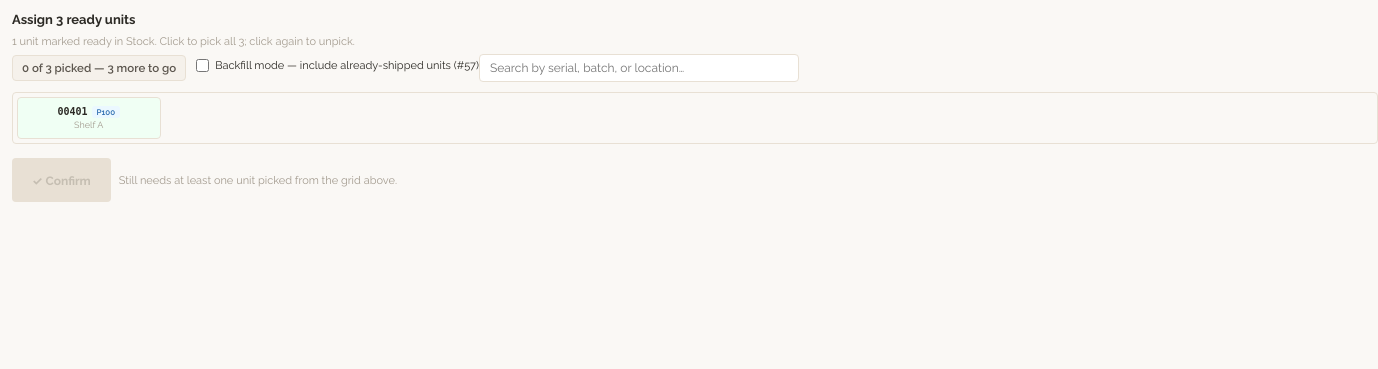
Scenario: StepAssign — picking the machines an order is for › flags a picked unit that is already shipped as a backfill
The width and height of the screenshot is (1378, 369).
Click the checkbox labelled "Backfill mode — include already-shipped units (#57)". click: coordinates (203, 66)
box: 196,59 -> 209,72
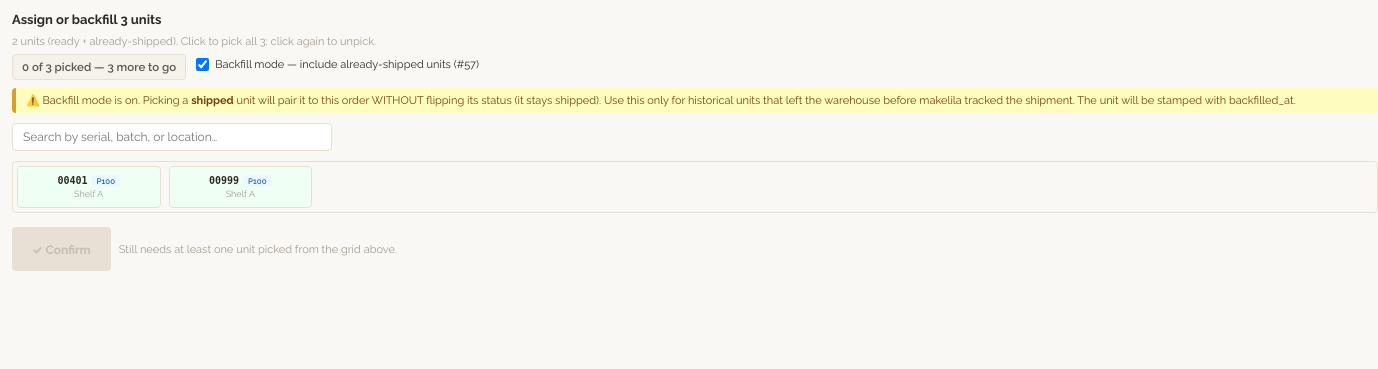
Click the text "00999". click: coordinates (240, 181)
box: 209,175 -> 272,187
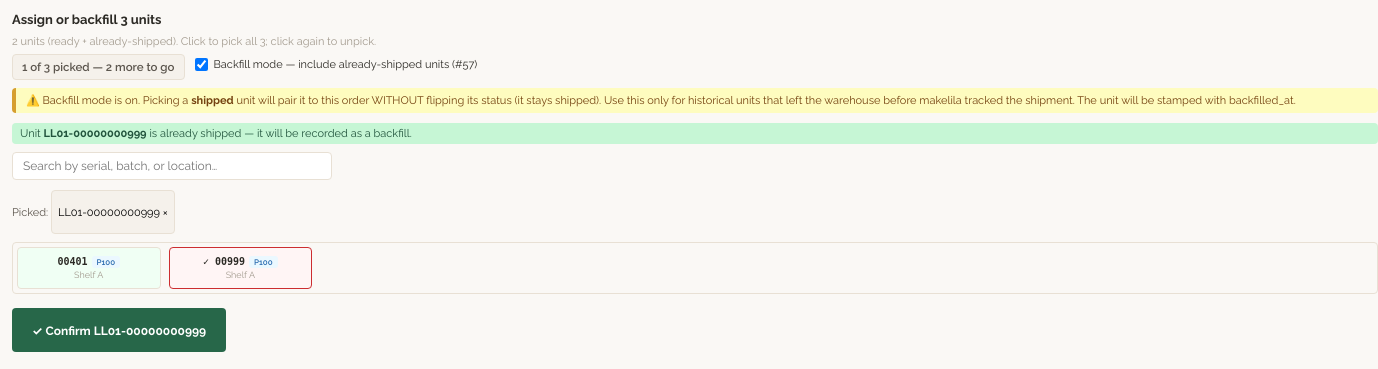
Expected: the text "already shipped" is shown, 147,127 -> 412,140
